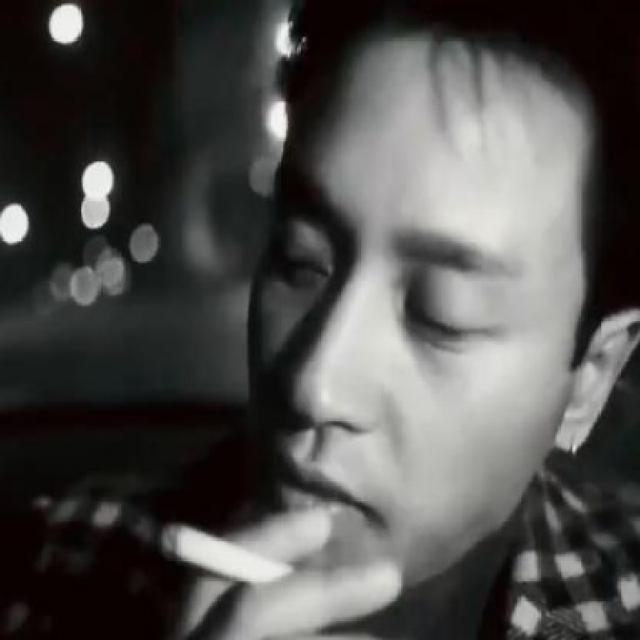smoke: (140, 480, 317, 618)
